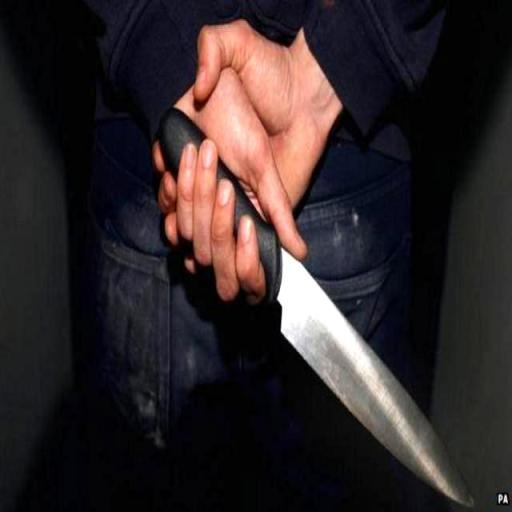knife: (150, 89, 485, 511)
